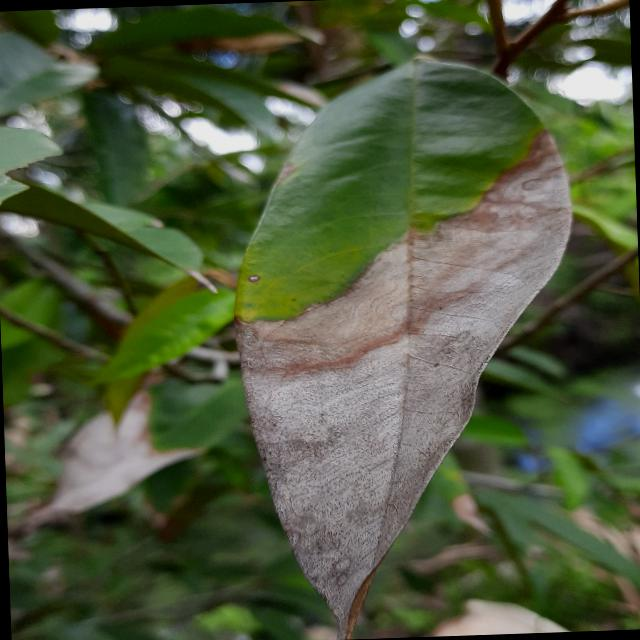Leaf Blight: (210, 39, 600, 639)
